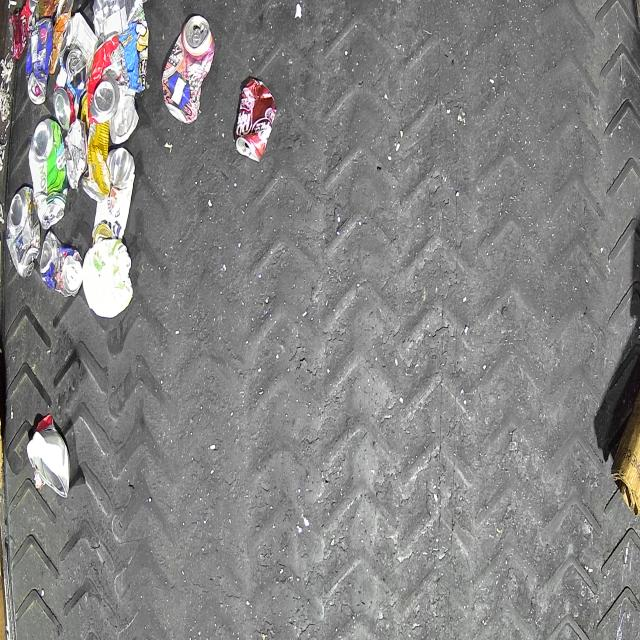can: (162, 15, 216, 124), (28, 118, 68, 230), (92, 146, 136, 246), (87, 33, 129, 124), (234, 76, 276, 162), (81, 91, 111, 203), (6, 185, 40, 278), (40, 230, 82, 298), (25, 18, 53, 104), (9, 0, 41, 61), (92, 1, 143, 38), (53, 66, 82, 130), (109, 88, 139, 144), (62, 46, 88, 87)
